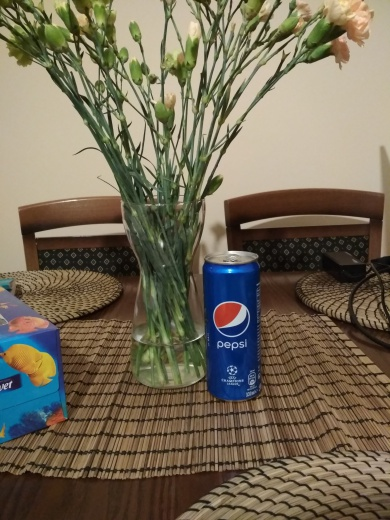pepsi: (194, 245, 269, 405)
